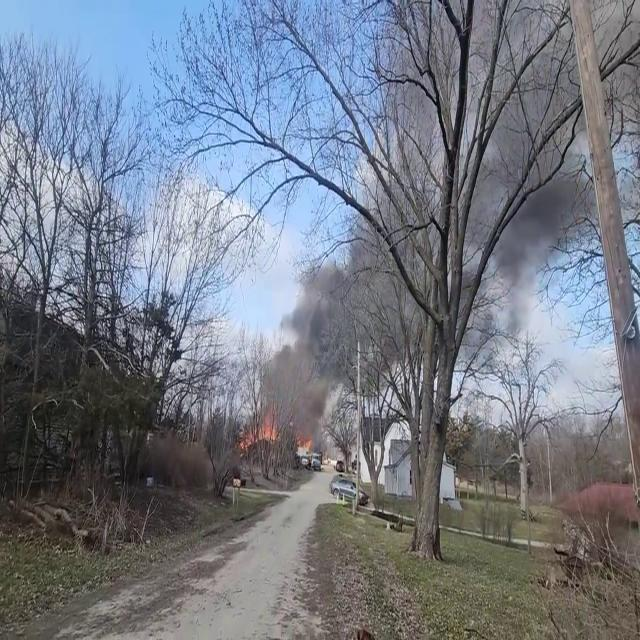Fire: (238, 408, 278, 452)
Smoke: (466, 0, 613, 350), (258, 232, 378, 432)
